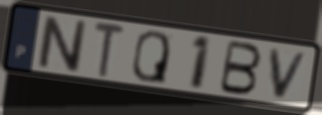1: (190, 34, 212, 94)
B: (216, 38, 264, 97)
N: (36, 13, 88, 75)
Q: (130, 29, 172, 86)
T: (92, 19, 128, 80)
V: (268, 47, 312, 102)
